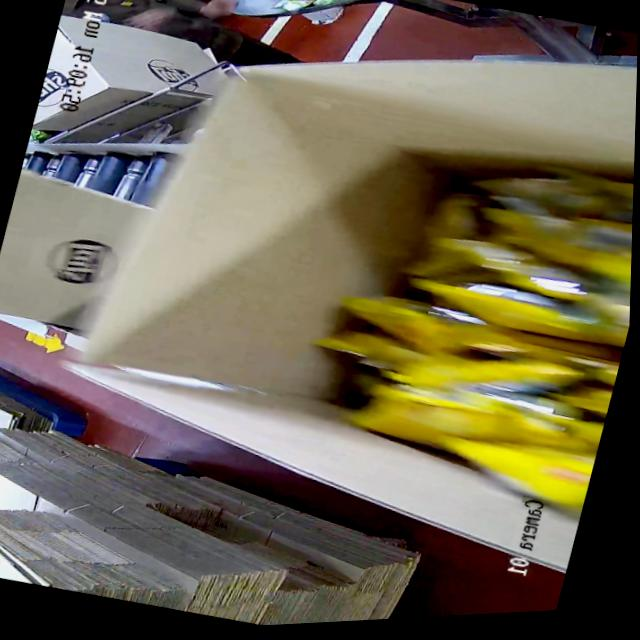SALTED: (276, 135, 635, 516)
